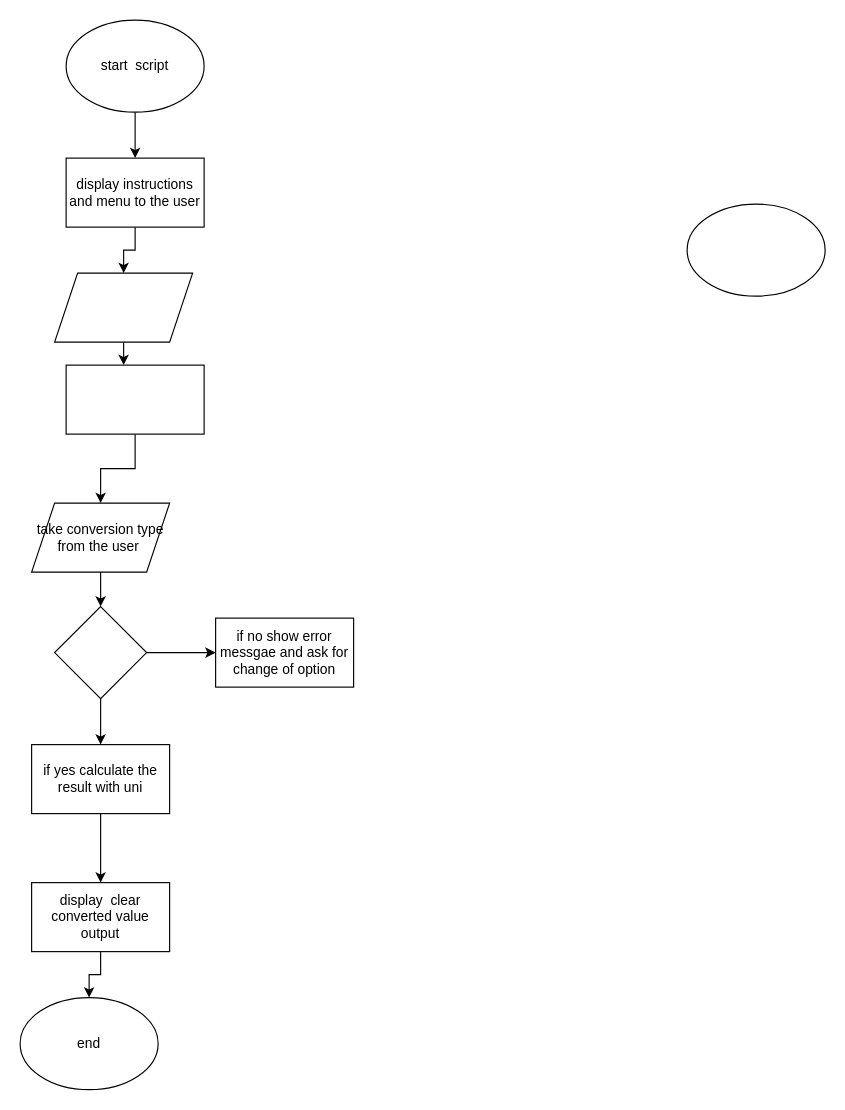
The diagram is 845 pixels wide and 1110 high, and some of its shapes have lost their labels. The shapes that lost their labels are listed below. From the top down, each one's box as (x1, y1, x2, y2) in pixels, then its label:
(686, 203, 825, 296): start the function
(53, 272, 193, 342): take value from the user
(65, 364, 204, 434): if the value is anony
(53, 605, 147, 699): is the value withing menu
